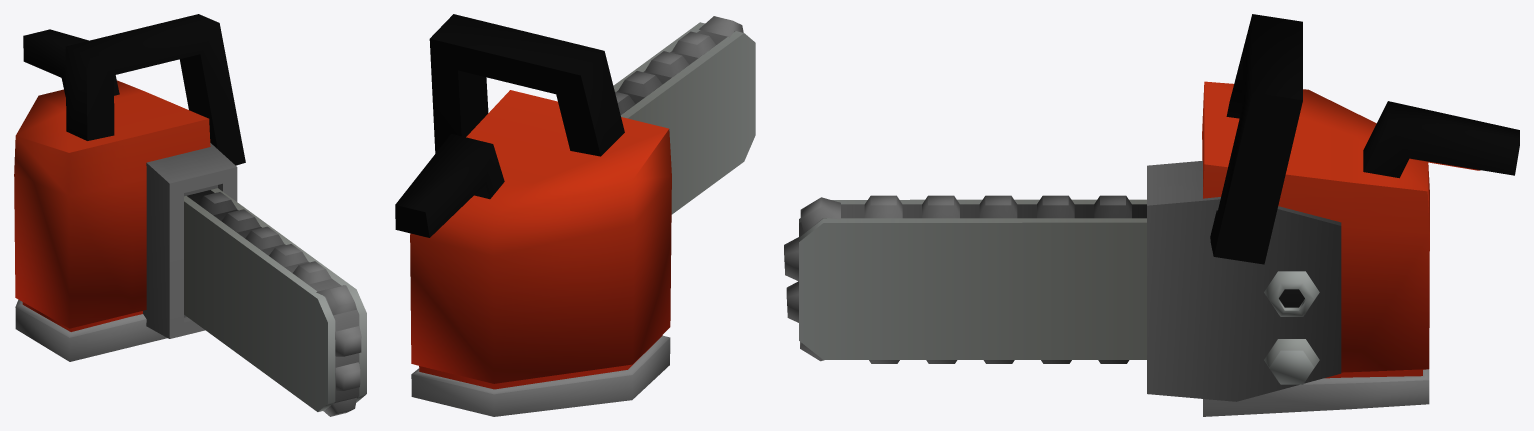
The model's file is chainsaw.fbx.
3 renders of one model, left to right at view 1: azimuth 30°, elevation 25°; view 2: azimuth 150°, elevation 25°; view 3: azimuth 270°, elevation 25°, orthographic. The views are drawn at different scales.
Parts seen in each view (by area): view 1: chainsaw; view 2: chainsaw; view 3: chainsaw.
Part boxes in pixels (box(x1,y1,x2,y2)): chainsaw: box(14, 14, 366, 416); chainsaw: box(395, 14, 755, 416); chainsaw: box(784, 14, 1519, 416).
Size of the model in its own units: 0.4225 by 0.5924 by 1.15.
